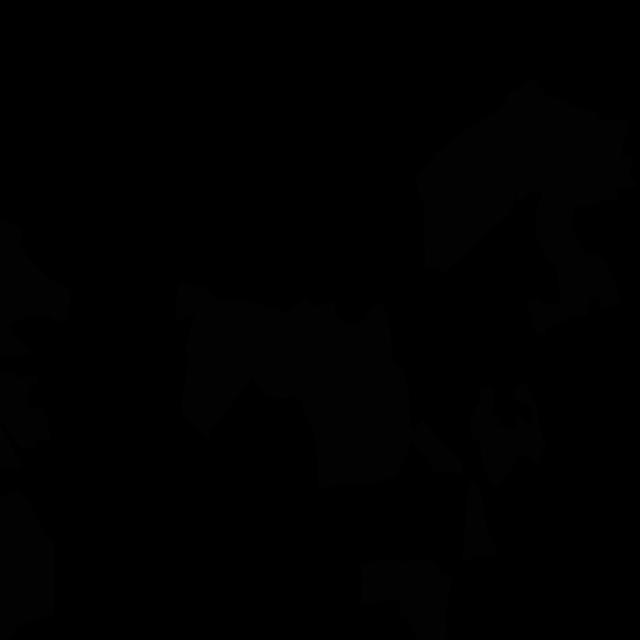cardboard: (415, 77, 637, 273), (292, 302, 464, 487), (176, 283, 310, 442), (527, 188, 620, 336), (0, 218, 72, 358), (0, 490, 54, 640), (470, 383, 546, 488), (361, 559, 452, 640), (0, 370, 52, 449), (462, 483, 499, 564), (0, 424, 22, 470)
